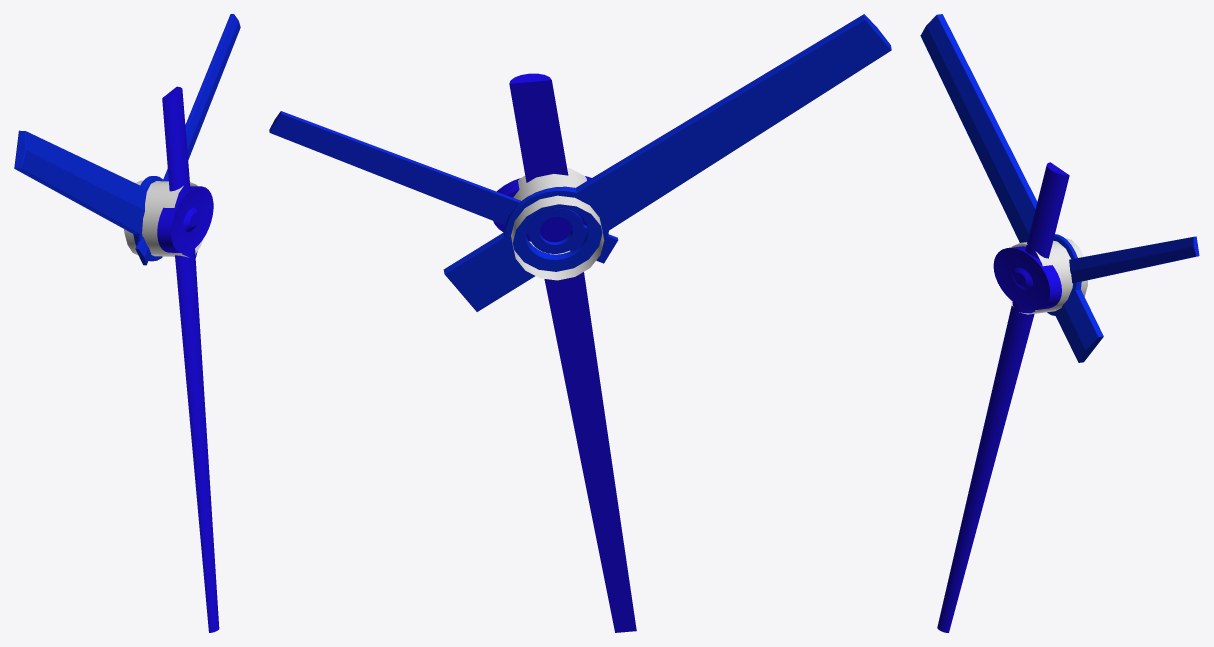
Rendered from smallArrows.draco.glb.
3 views of the same model, side by side, from view 1: azimuth 30°, elevation 25°; view 2: azimuth 150°, elevation 25°; view 3: azimuth 270°, elevation 25° (orthographic). The views are drawn at different scales.
Visible parts, largest first — view 1: arrow_big_5, arrow_small_3, arrow_medium_4, arrow_cylinder_6; view 2: arrow_small_3, arrow_big_5, arrow_medium_4, arrow_cylinder_6; view 3: arrow_big_5, arrow_small_3, arrow_medium_4, arrow_cylinder_6.
Part boxes in pixels (x1,y1,x2,y2): arrow_big_5: [157, 86, 219, 632]; arrow_small_3: [14, 130, 197, 261]; arrow_medium_4: [135, 14, 240, 265]; arrow_cylinder_6: [124, 180, 202, 257]; arrow_small_3: [443, 14, 891, 311]; arrow_big_5: [493, 73, 636, 632]; arrow_medium_4: [269, 111, 618, 263]; arrow_cylinder_6: [511, 168, 604, 280]; arrow_big_5: [937, 162, 1069, 632]; arrow_small_3: [920, 14, 1103, 362]; arrow_medium_4: [1069, 236, 1199, 283]; arrow_cylinder_6: [1007, 238, 1087, 314].
Bounding box in the file's own units: 0.00539 × 0.00769 × 0.0037.
